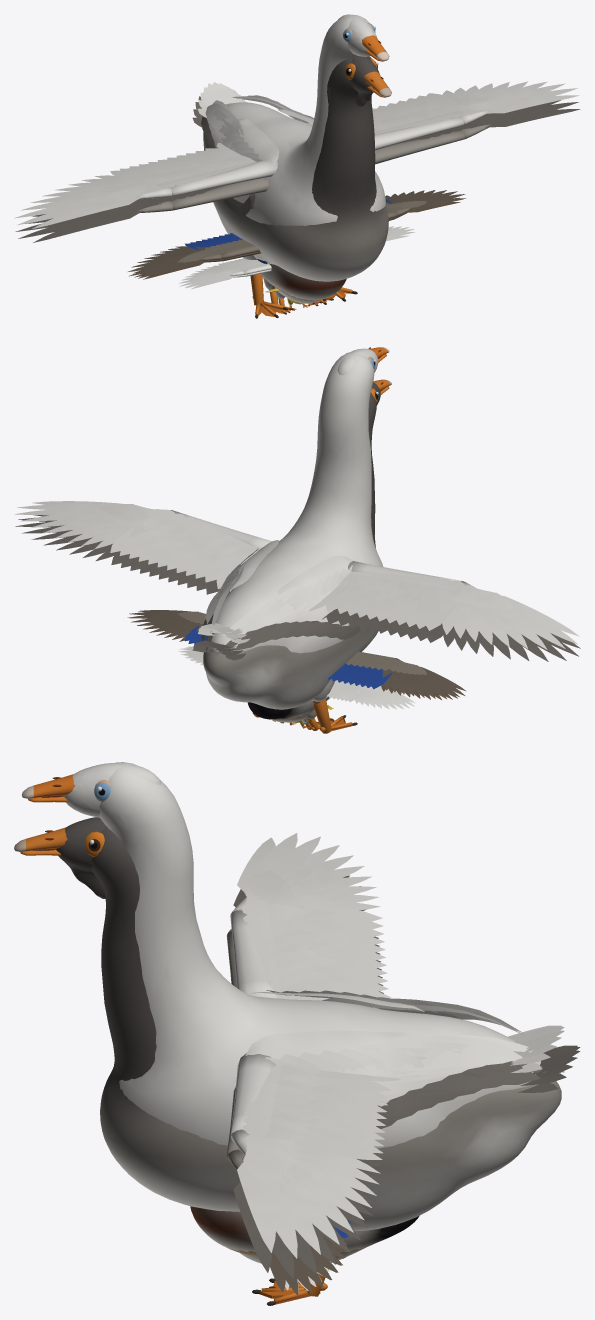
Rendered from geese.glb.
3 renders of one model, top to bottom at view 1: azimuth 30°, elevation 25°; view 2: azimuth 150°, elevation 25°; view 3: azimuth 270°, elevation 25°, orthographic. The views are drawn at different scales.
Parts seen in each view (by area): view 1: embden, toulouse, mallard_m, call_m, mallard_f, call_f; view 2: embden, toulouse, mallard_m, call_m, mallard_f; view 3: embden, toulouse, mallard_m.
Boxes of the visible parts, x1,y1,x2,y2 form: embden: [14, 14, 579, 318]; toulouse: [15, 56, 580, 317]; mallard_m: [128, 190, 466, 314]; call_m: [178, 226, 415, 312]; mallard_f: [133, 197, 460, 313]; call_f: [185, 235, 409, 312]; embden: [15, 347, 579, 731]; toulouse: [15, 379, 580, 733]; mallard_m: [127, 610, 466, 730]; call_m: [178, 646, 415, 729]; mallard_f: [137, 618, 459, 730]; embden: [22, 762, 564, 1305]; toulouse: [14, 817, 580, 1305]; mallard_m: [190, 1206, 419, 1295].
Bounding box in the file's own units: 1.37 × 0.7704 × 0.7694.
